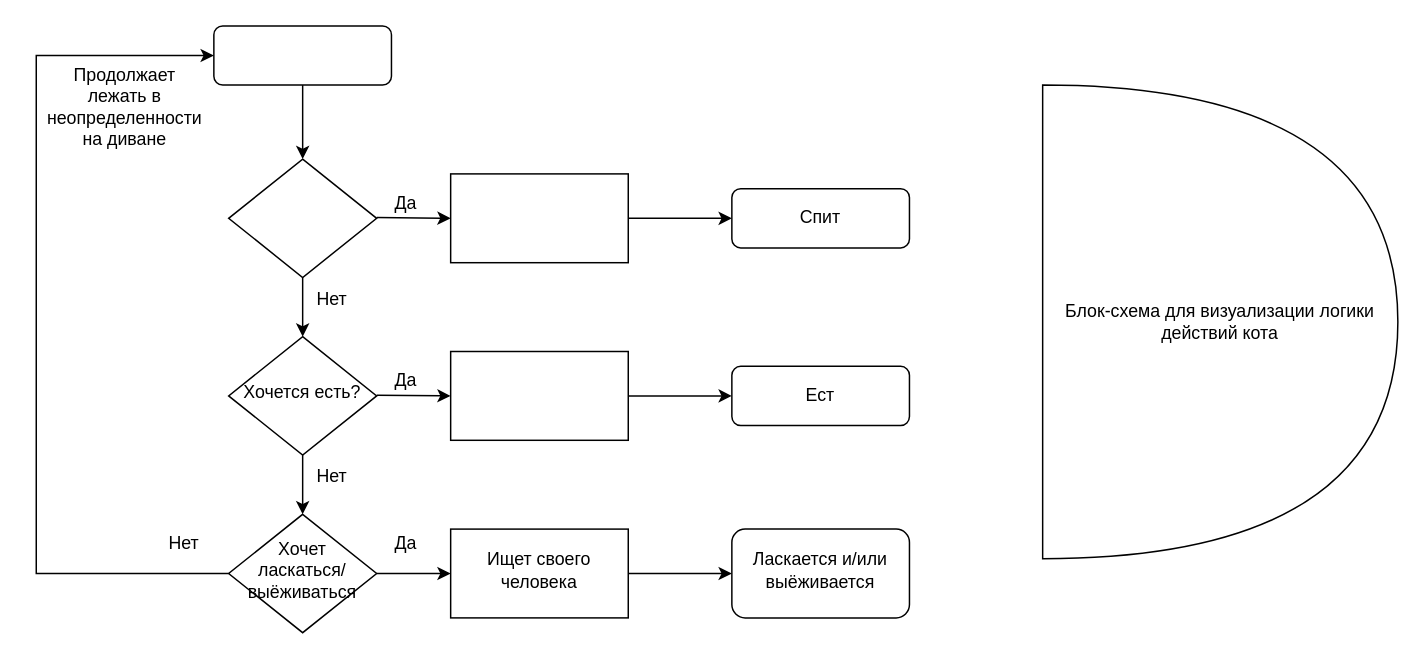
This 1424x659 diagram has some shape labels left out. Each missing label, with the centre of its shape:
"Кот на диване" belongs at point 301,54.
"Остается на диване" belongs at point 538,217.
"Уходит с дивана на кухню" belongs at point 538,395.
"Хочется спать?" belongs at point 302,218.
